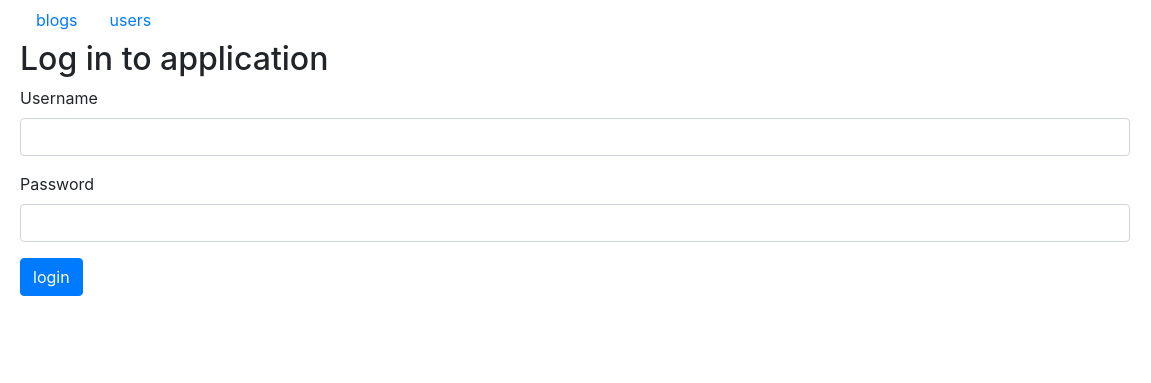
it: Blog app › Before Login › succeeds with correct credentials
Type "test" into the field with id "usernameInput" at (575, 137), box left=20, top=118, right=1130, bottom=156
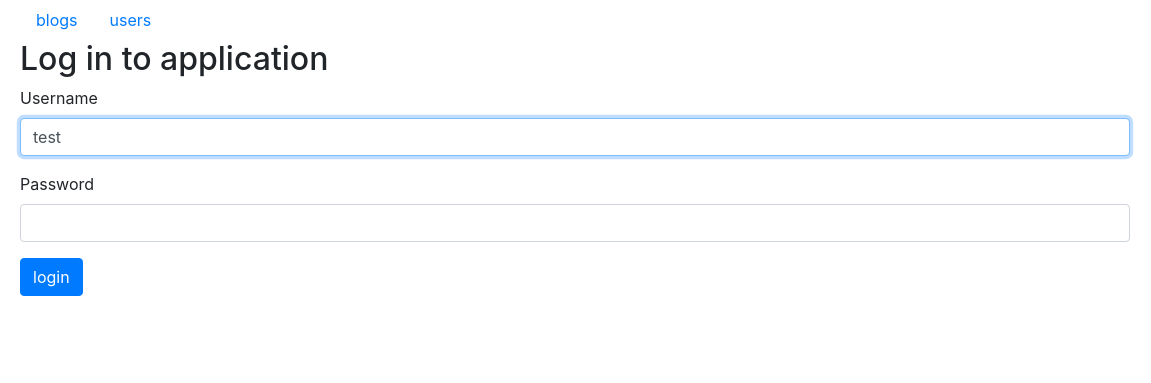
Type "pass1234" into the password field at (575, 223), box left=20, top=204, right=1130, bottom=242
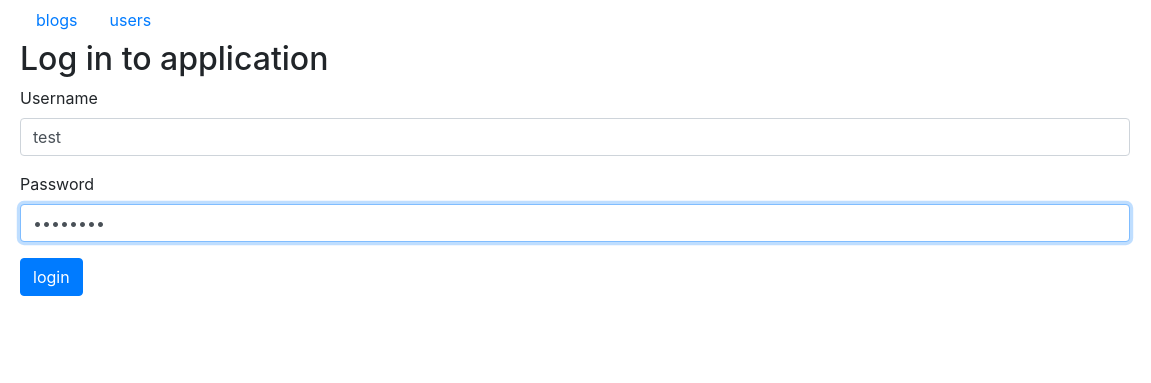
Click the button with id "loginButton" at (52, 277), box left=20, top=258, right=83, bottom=296
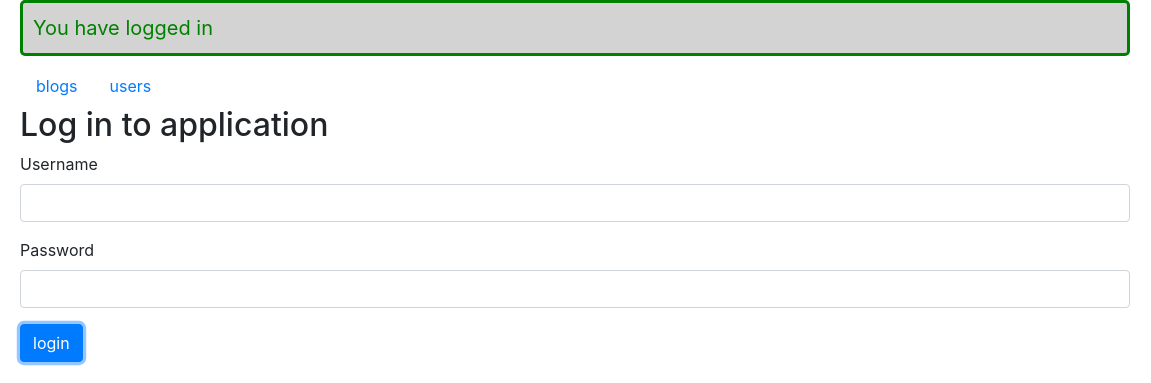
Expected: the text with id "info" reads "You have logged in", left=33, top=16, right=213, bottom=40
